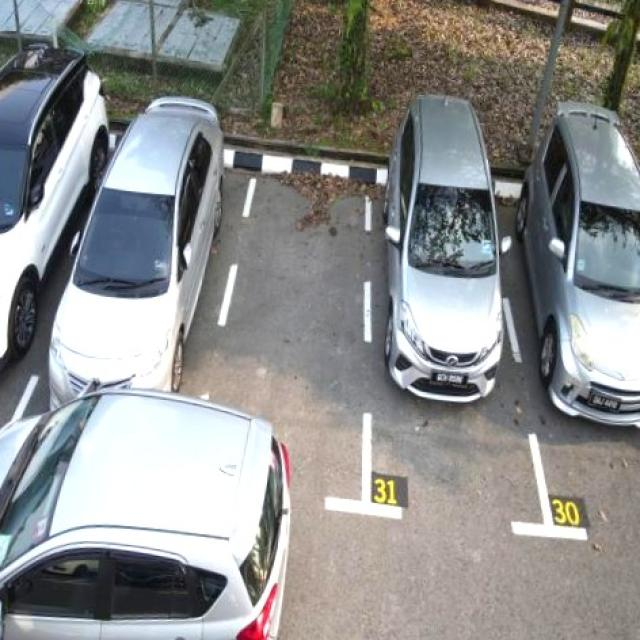Legalparking: (0, 386, 290, 639), (52, 96, 221, 407), (515, 102, 639, 426), (384, 95, 510, 400), (0, 43, 108, 363)
